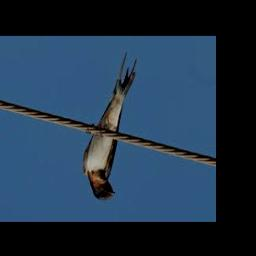Swallow: (83, 53, 137, 201)
